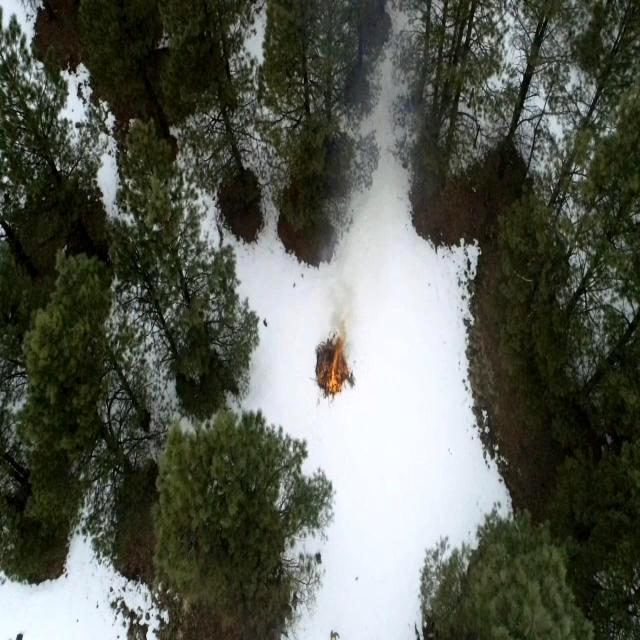Fire: (318, 340, 346, 393)
Smoke: (323, 0, 425, 334)
